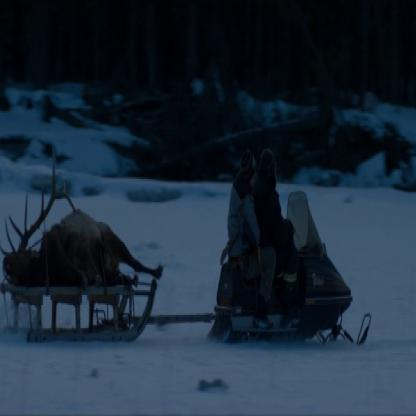Guns: (219, 210, 249, 267)
